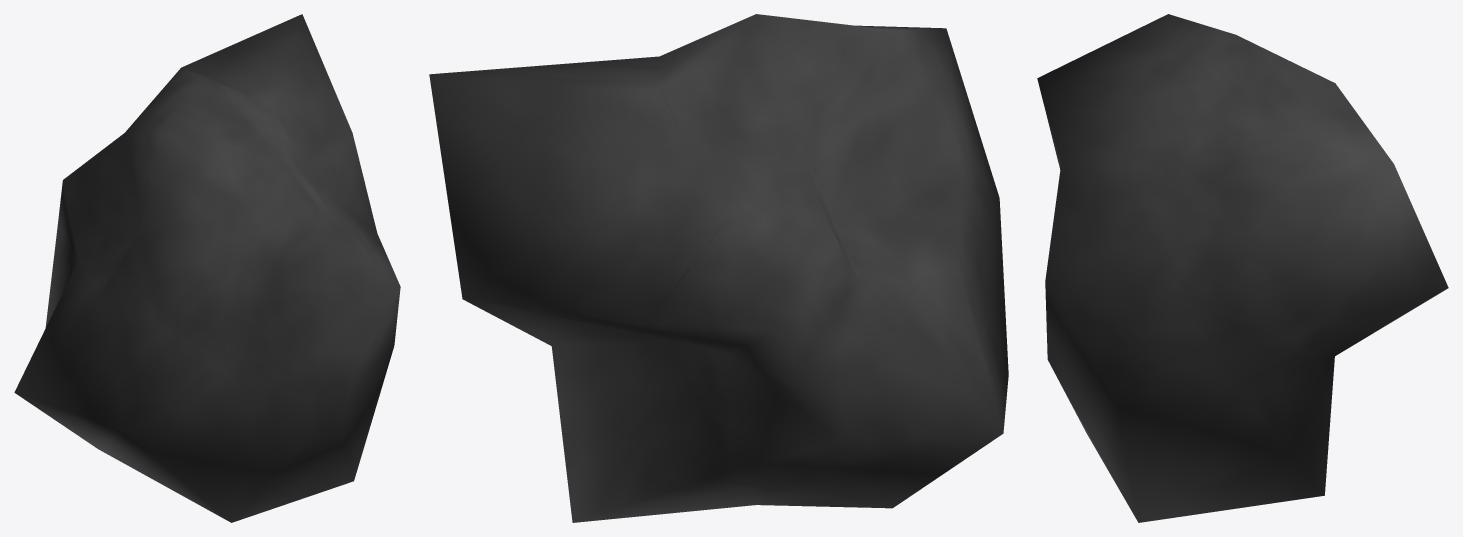
Rendered from RockMedium1.fbx.
3 views of the same model, side by side, from view 1: azimuth 30°, elevation 25°; view 2: azimuth 150°, elevation 25°; view 3: azimuth 270°, elevation 25° (orthographic). The views are drawn at different scales.
Parts seen in each view (by area): view 1: RockMedium1; view 2: RockMedium1; view 3: RockMedium1.
Part boxes in pixels (x1,y1,x2,y2): RockMedium1: (14,14,400,522); RockMedium1: (429,14,1008,522); RockMedium1: (1037,14,1448,522).
Bounding box in the file's own units: 133 × 137 × 118.
1 material, 1 textured.
